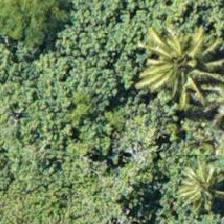coconut_tree: (152, 16, 223, 106), (163, 149, 223, 223)
